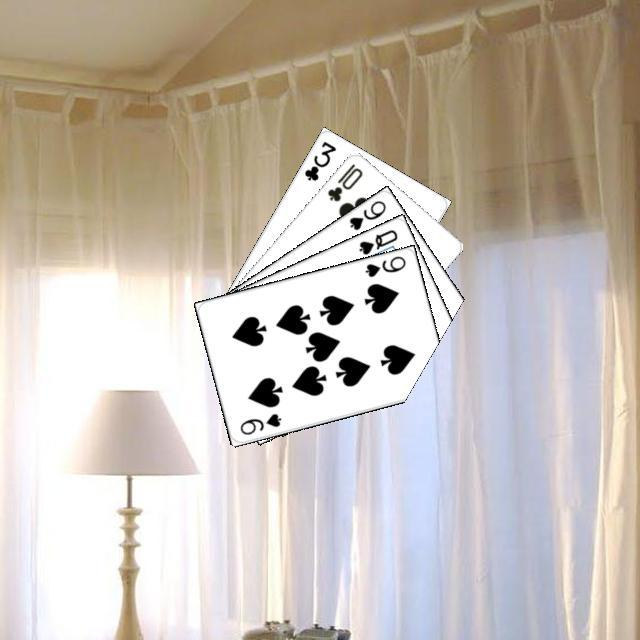10c: (322, 159, 364, 203)
3c: (299, 136, 338, 183)
9s: (344, 195, 388, 232), (235, 408, 283, 436), (360, 251, 407, 279)
Qs: (354, 225, 399, 257)
